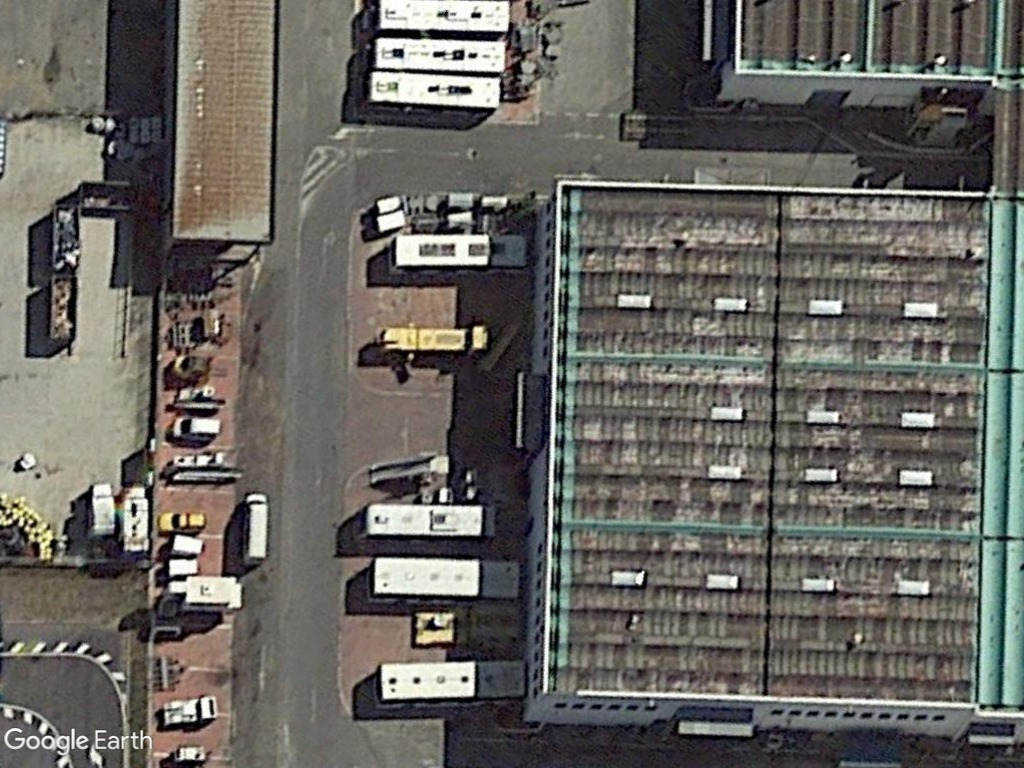bus: (366, 552, 520, 604), (370, 660, 527, 711), (385, 232, 532, 276), (363, 69, 504, 111), (365, 34, 510, 74), (360, 498, 498, 540)
car: (154, 508, 210, 536)
other: (160, 693, 223, 732)
truck: (158, 575, 245, 621), (84, 479, 119, 545)
van: (239, 488, 270, 569), (166, 412, 225, 445)
